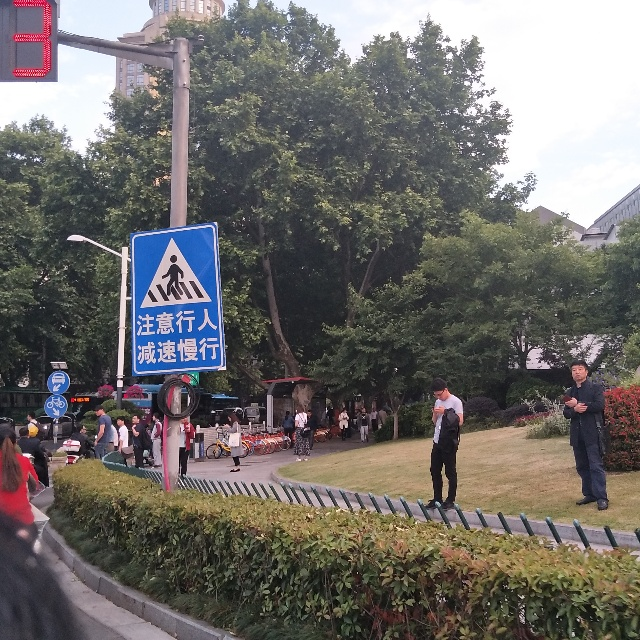crosswalk: (126, 235, 217, 305)
